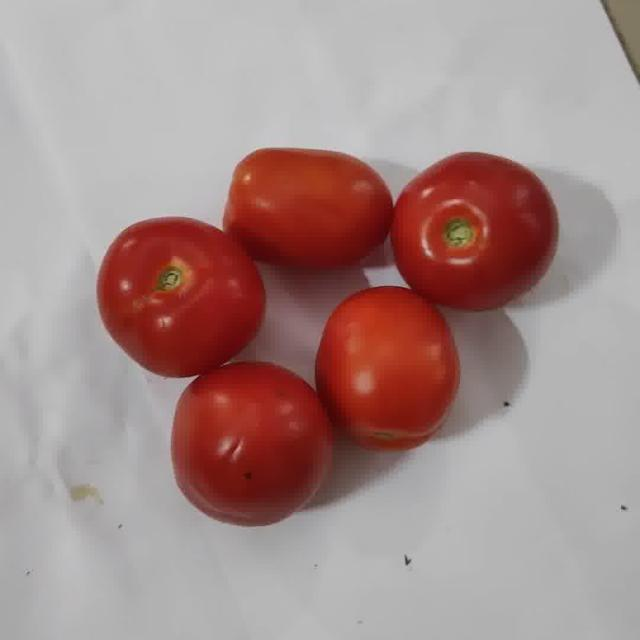Tomato: (97, 219, 264, 377), (391, 153, 557, 311), (172, 363, 331, 526), (315, 287, 459, 450), (223, 148, 392, 269)
